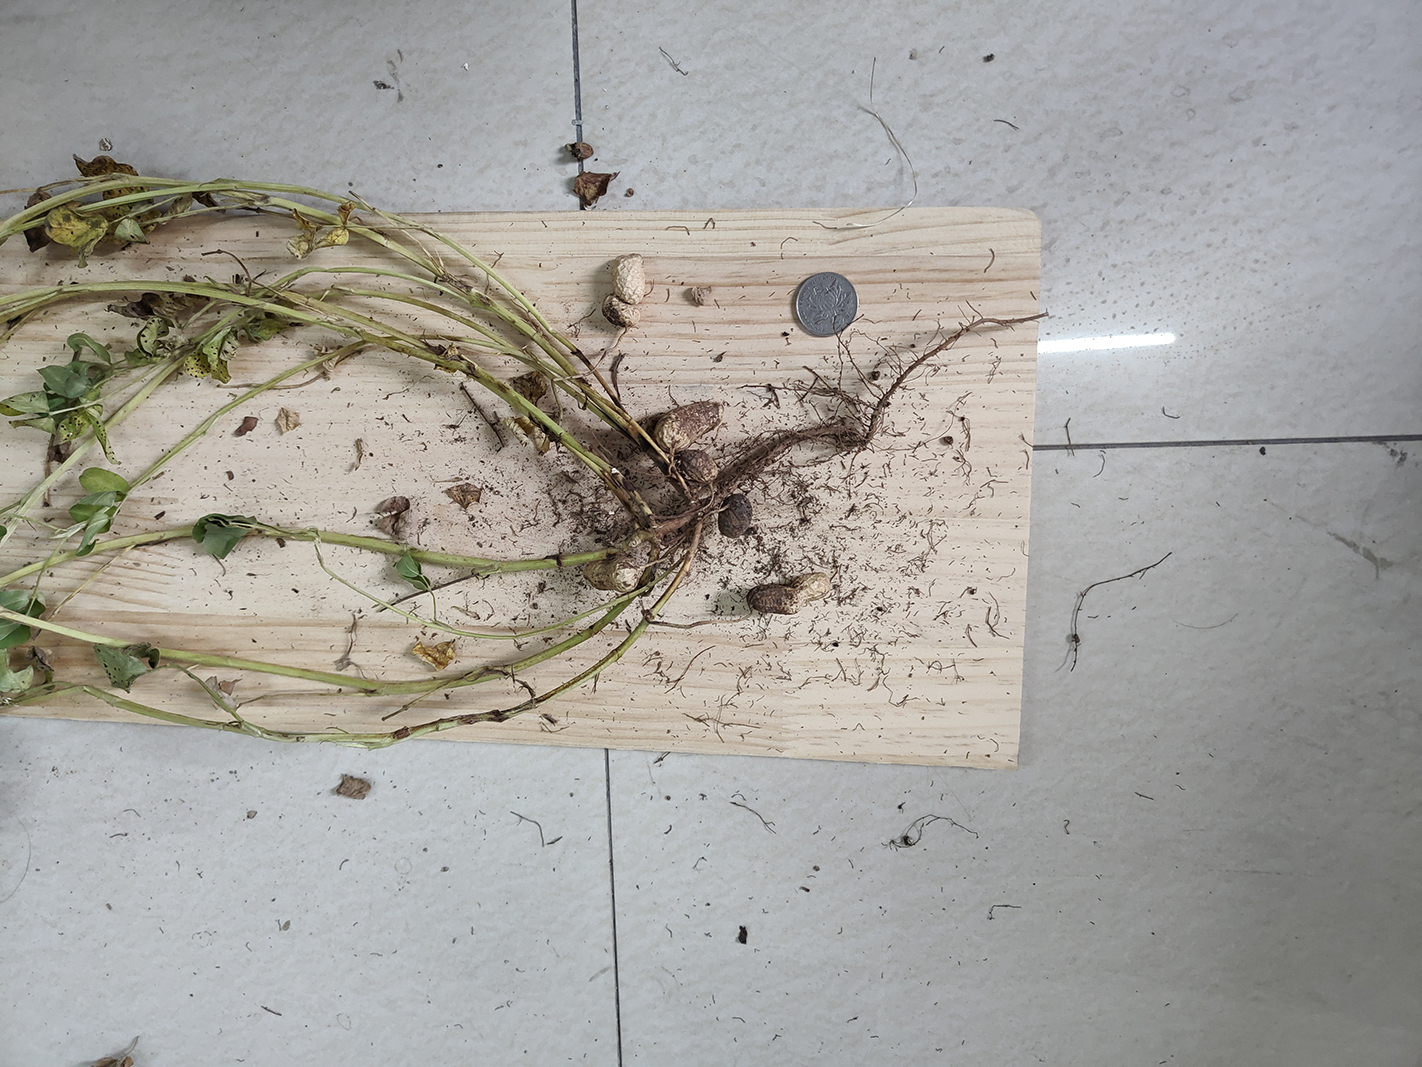h: (602, 254, 645, 330), (578, 558, 639, 595)
l: (653, 401, 726, 453), (749, 573, 825, 616), (717, 493, 753, 539), (678, 449, 721, 486)
